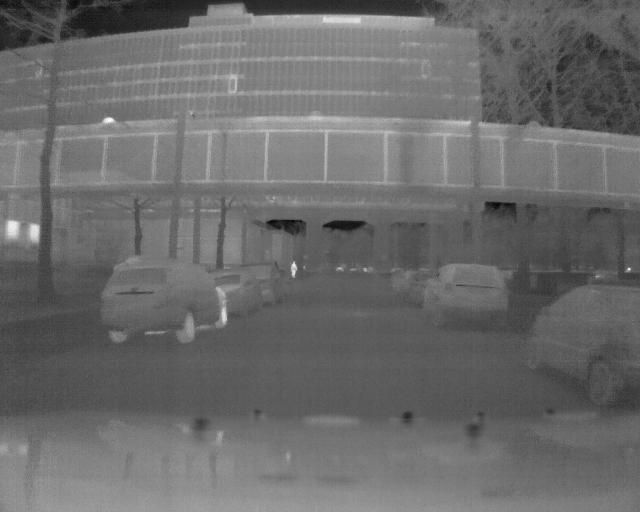car: (525, 283, 640, 404), (100, 258, 232, 343), (423, 262, 514, 326), (206, 268, 267, 314)
person: (287, 257, 299, 281)
